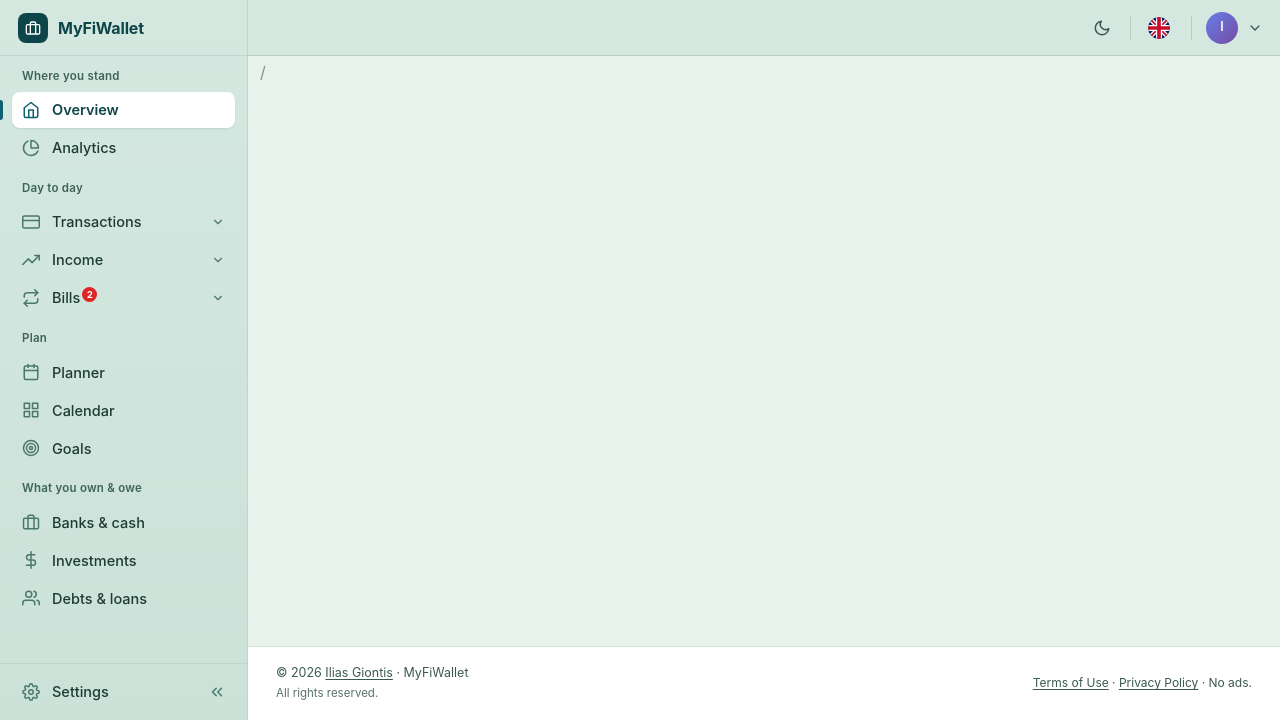
Test: menu style a › puts the bills that need paying on Bills, read as part of its name, and a dot on ☰
expect the text "2" is shown: met, box [82,287,97,302]
# Open, the count is on the page where they are paid as well.
Step 1. Click the button with aria-label "Bills — 2 bills need paying" → coordinates (124, 298), box [12,280,235,316]
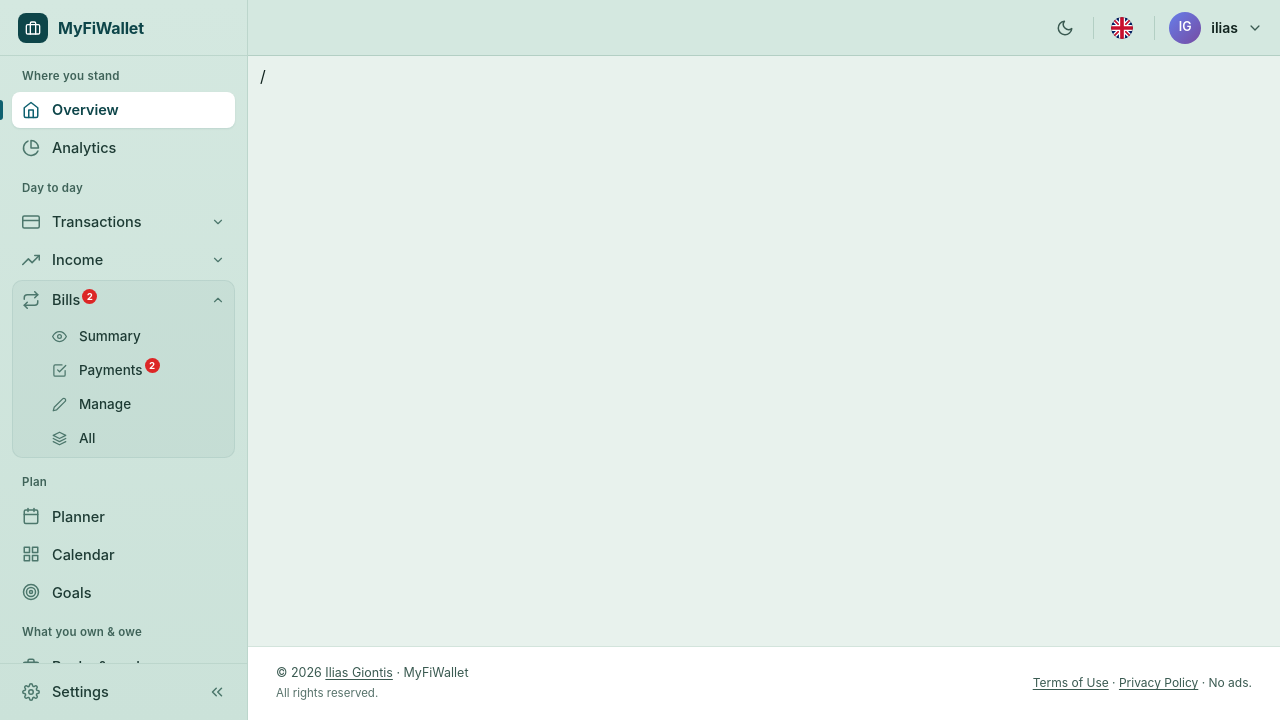
expect the text "2" next to "Payments" is shown: met, box [149,360,155,372]
